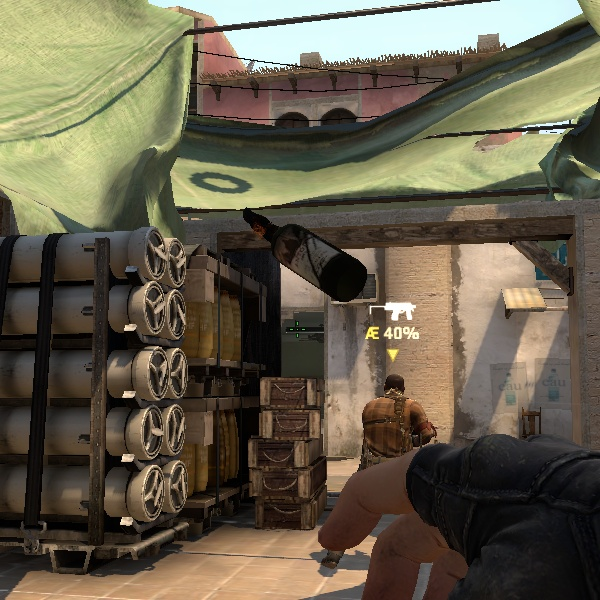t_head: (377, 369, 412, 406)
